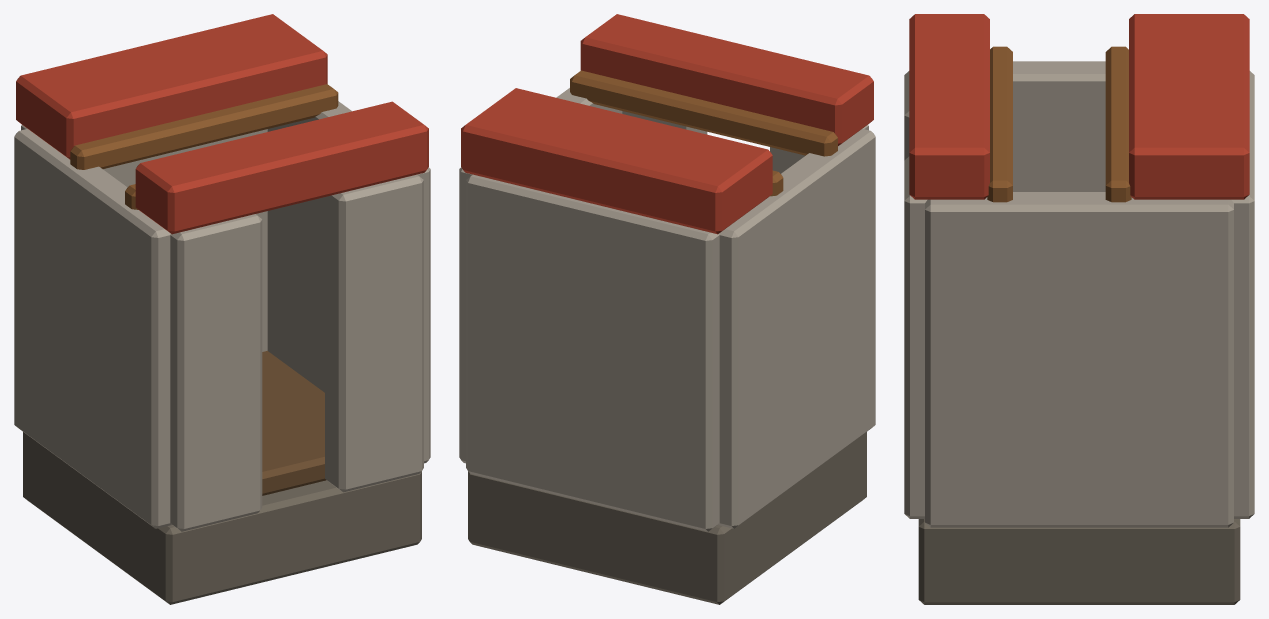
Rendered from tower_barracks_1.glb.
The picture shows the model from 3 angles, left to right: view 1: azimuth 30°, elevation 25°; view 2: azimuth 150°, elevation 25°; view 3: azimuth 270°, elevation 25°; orthographic projection. The views are drawn at different scales.
Visible parts, largest first — view 1: SM_Tower_Barracks_t1; view 2: SM_Tower_Barracks_t1; view 3: SM_Tower_Barracks_t1.
Boxes of the visible parts, <box> form: SM_Tower_Barracks_t1: <box>14,14,430,604</box>; SM_Tower_Barracks_t1: <box>459,14,875,604</box>; SM_Tower_Barracks_t1: <box>904,14,1254,604</box>.
Bounding box in the file's own units: 1.55 × 2.23 × 1.55.
